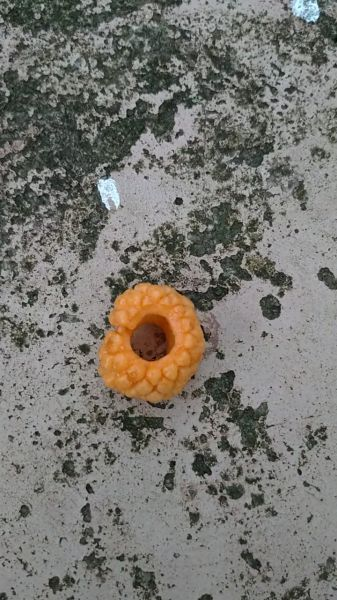eggs: (89, 274, 212, 404)
